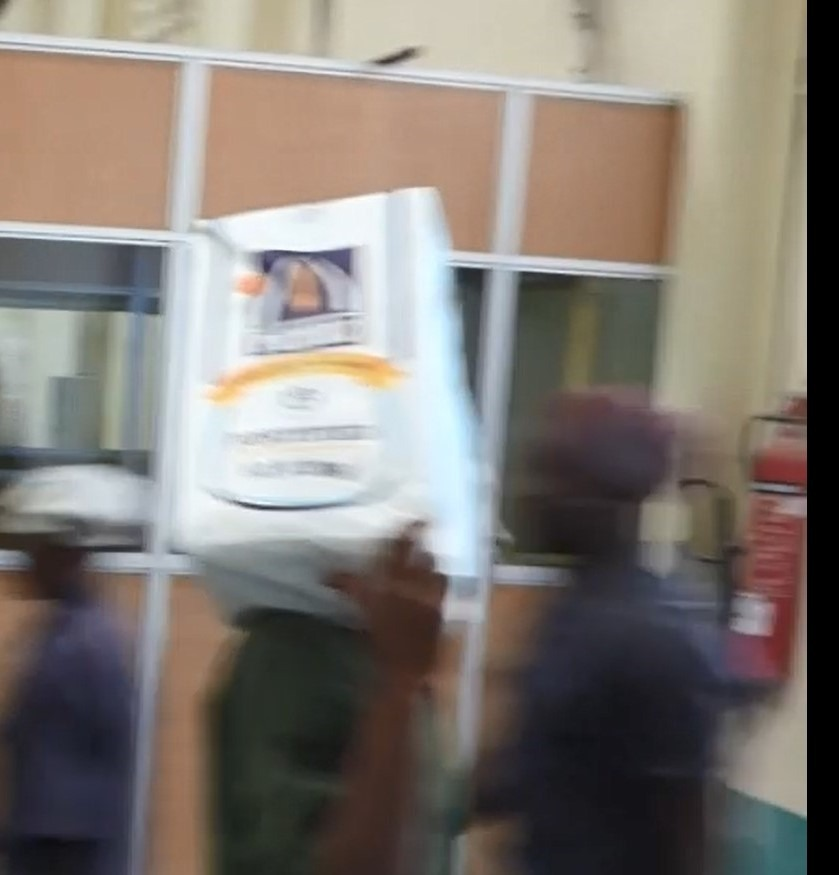wheat_flour_blue_label: (169, 187, 493, 621)
